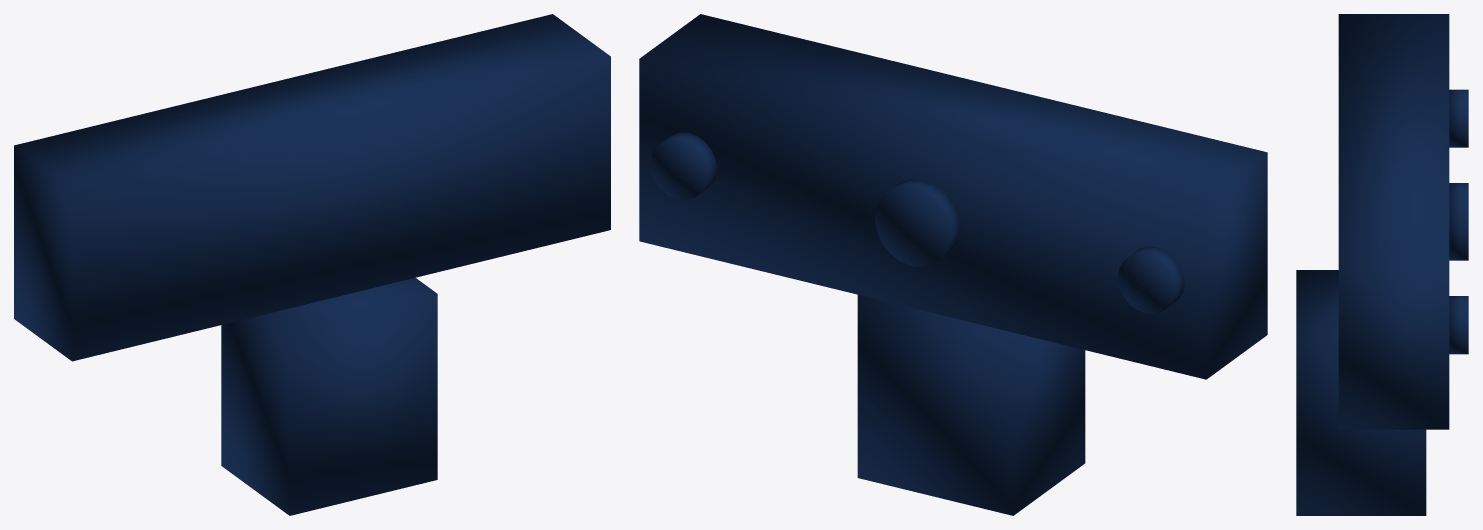
File: camera_oak_d_lite.dae
3 views of the same model, side by side, from view 1: azimuth 30°, elevation 25°; view 2: azimuth 150°, elevation 25°; view 3: azimuth 270°, elevation 25° (orthographic). The views are drawn at different scales.
Parts seen in each view (by area): view 1: node0; view 2: node0; view 3: node0.
Part boxes in pixels (x1,y1,x2,y2): node0: [14, 14, 610, 515]; node0: [639, 14, 1267, 515]; node0: [1296, 14, 1468, 515].
Size of the model in its own units: 0.091 by 0.0265 by 0.058.
